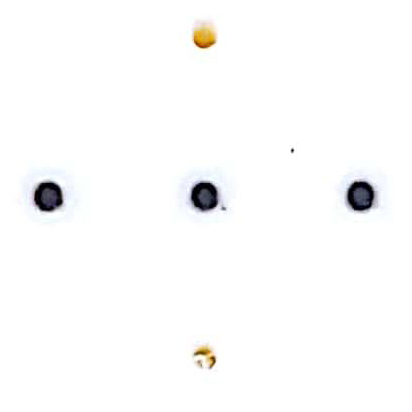cancer: (13, 162, 89, 231), (170, 159, 243, 230), (326, 172, 391, 231)
normal: (184, 331, 233, 383), (186, 14, 236, 58)
